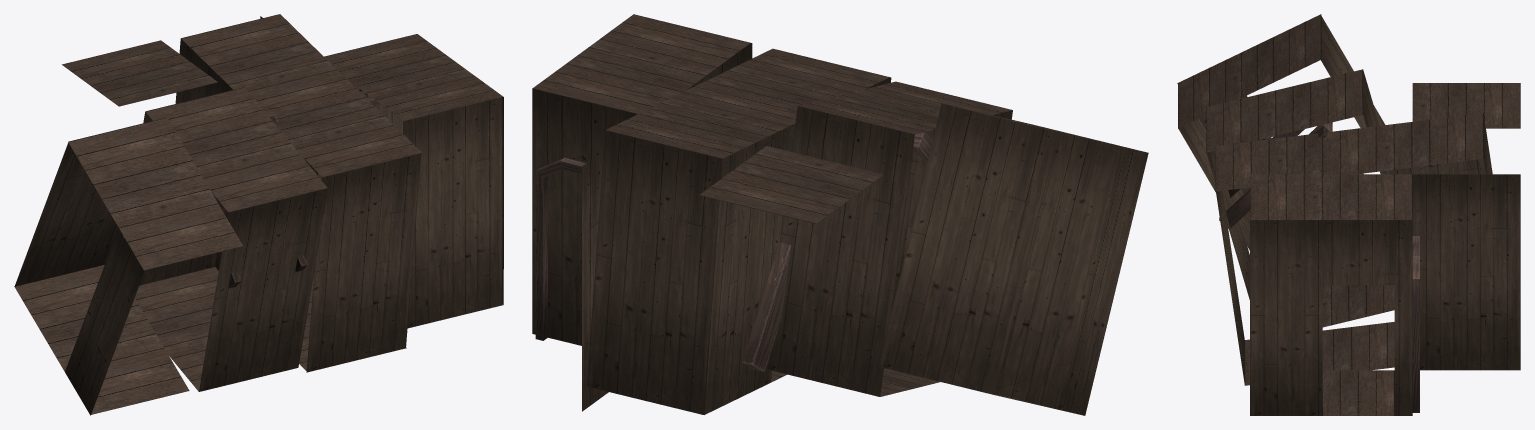
The model's file is Hallway_Stage-5.fbx.
3 renders of one model, left to right at view 1: azimuth 30°, elevation 25°; view 2: azimuth 150°, elevation 25°; view 3: azimuth 270°, elevation 25°, orthographic. The views are drawn at different scales.
Parts seen in each view (by area): view 1: Wall_W_3x1_5__6_, Wall_W_3x1_5__7_, Wall_W_3x1_5__4_, Floor_T_1_5x1_5__4__1, Floor_T_1_5x1_5__3__1, Wall_W_3x1_5, Floor_T_1_5x1_5_1, Floor_T_1_5x1_5__1__1, Wall_W_3x0_75_Single_Faced, Floor_T_1_5x1_5__4_, Floor_T_1_5x1_5__5_, Floor_T_1_5x1_5__2__1 (+9 smaller); view 2: Wall_W_3x1_5, Wall_W_3x1_5__1__1, Wall_W_3x1_5_1, Wall_W_3x1_5__1_, Wall_W_3x1_5__2_, Wall_W_3x1_5__3_, Wall_W_3x0_75_Single_Faced, Floor_T_1_5x1_5__5_, Floor_T_1_5x1_5__2__1, Floor_T_1_5x1_5_1, Floor_T_1_5x1_5__1__1, Floor_T_1_5x0_75__3__1 (+9 smaller); view 3: Wall_W_3x1_5__5_, Wall_W_3x1_5_Door__2_, Wall_W_3x0_75_Single_Faced__1_, Floor_T_1_5x1_5__2__1, Floor_T_1_5x1_5_1, Floor_T_1_5x1_5__3__1, Floor_T_1_5x1_5__1__1, Floor_T_1_5x1_5__4__1, Floor_T_1_5x1_5__5_, Floor_T_1_5x1_5__2_, Floor_T_1_5x1_5__1_, Floor_T_1_5x0_75__3__1 (+13 smaller).
Part boxes in pixels (x1,y1,x2,y2): Wall_W_3x1_5__6_: (306, 153, 421, 372); Wall_W_3x1_5__7_: (403, 97, 502, 328); Wall_W_3x1_5__4_: (199, 188, 327, 391); Floor_T_1_5x1_5__4__1: (68, 117, 217, 227); Floor_T_1_5x1_5__3__1: (145, 87, 299, 177); Wall_W_3x1_5: (14, 142, 120, 286); Floor_T_1_5x1_5_1: (181, 14, 336, 91); Floor_T_1_5x1_5__1__1: (248, 69, 393, 148); Wall_W_3x0_75_Single_Faced: (65, 228, 144, 415); Floor_T_1_5x1_5__4_: (14, 265, 163, 371); Floor_T_1_5x1_5__5_: (62, 40, 217, 106); Floor_T_1_5x1_5__2__1: (324, 34, 474, 99); Wall_W_3x1_5: (878, 103, 1058, 394); Wall_W_3x1_5__1__1: (587, 130, 722, 414); Wall_W_3x1_5_1: (765, 106, 914, 396); Wall_W_3x1_5__1_: (995, 132, 1148, 415); Wall_W_3x1_5__2_: (532, 88, 637, 345); Wall_W_3x1_5__3_: (704, 126, 789, 414); Wall_W_3x0_75_Single_Faced: (1054, 146, 1147, 415); Floor_T_1_5x1_5__5_: (699, 146, 883, 223); Floor_T_1_5x1_5__2__1: (532, 39, 716, 114); Floor_T_1_5x1_5_1: (605, 97, 788, 158); Floor_T_1_5x1_5__1__1: (672, 65, 851, 125); Floor_T_1_5x0_75__3__1: (600, 14, 750, 67); Wall_W_3x1_5__5_: (1412, 174, 1520, 370); Wall_W_3x1_5_Door__2_: (1304, 220, 1412, 415); Wall_W_3x0_75_Single_Faced__1_: (1250, 220, 1304, 415); Floor_T_1_5x1_5__2__1: (1304, 174, 1412, 219); Floor_T_1_5x1_5_1: (1376, 113, 1483, 171); Floor_T_1_5x1_5__3__1: (1258, 69, 1362, 139); Floor_T_1_5x1_5__1__1: (1269, 126, 1376, 174); Floor_T_1_5x1_5__4__1: (1226, 14, 1321, 102); Floor_T_1_5x1_5__5_: (1412, 83, 1520, 128); Floor_T_1_5x1_5__2_: (1322, 370, 1394, 415); Floor_T_1_5x1_5__1_: (1322, 322, 1394, 370); Floor_T_1_5x0_75__3__1: (1250, 174, 1304, 219).
Size of the model in its own units: 601 by 371 by 477.
6 materials, 6 textured.
